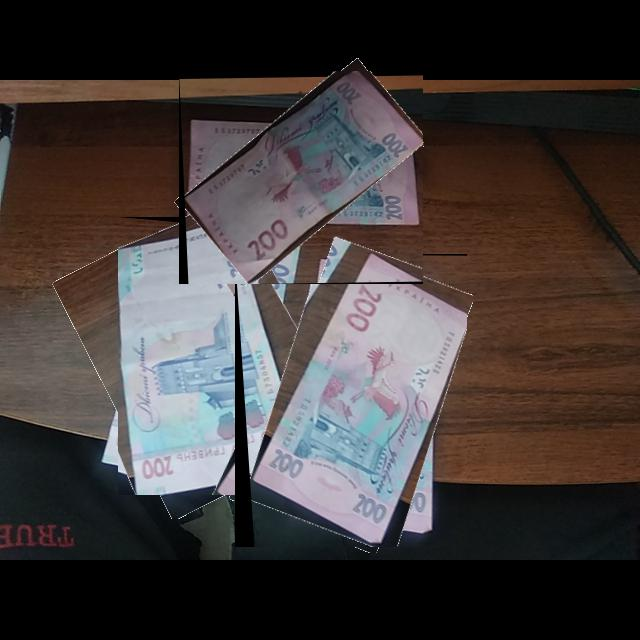200uah: (247, 255, 468, 548), (184, 71, 424, 285), (118, 225, 277, 496)
